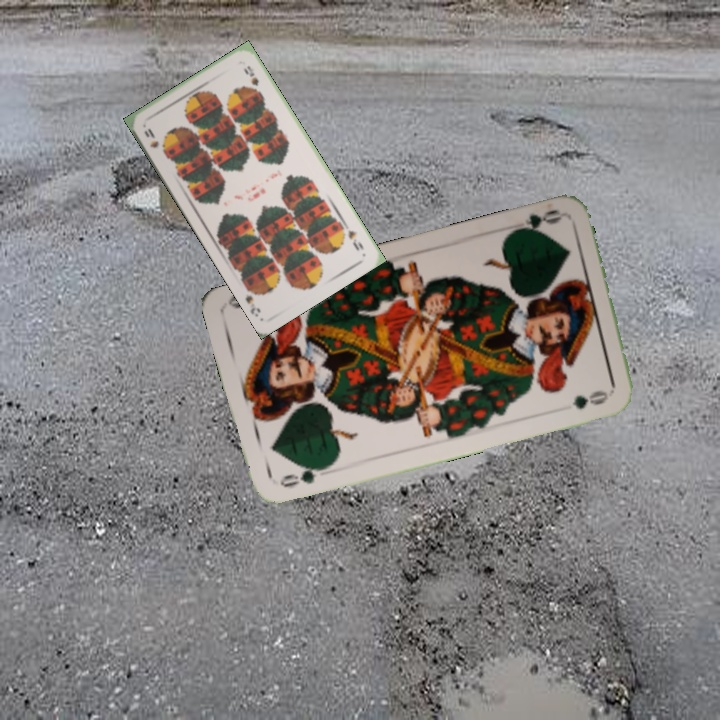GO: (507, 205, 564, 237), (275, 461, 331, 490)
S9: (140, 124, 168, 157), (344, 225, 367, 253)
